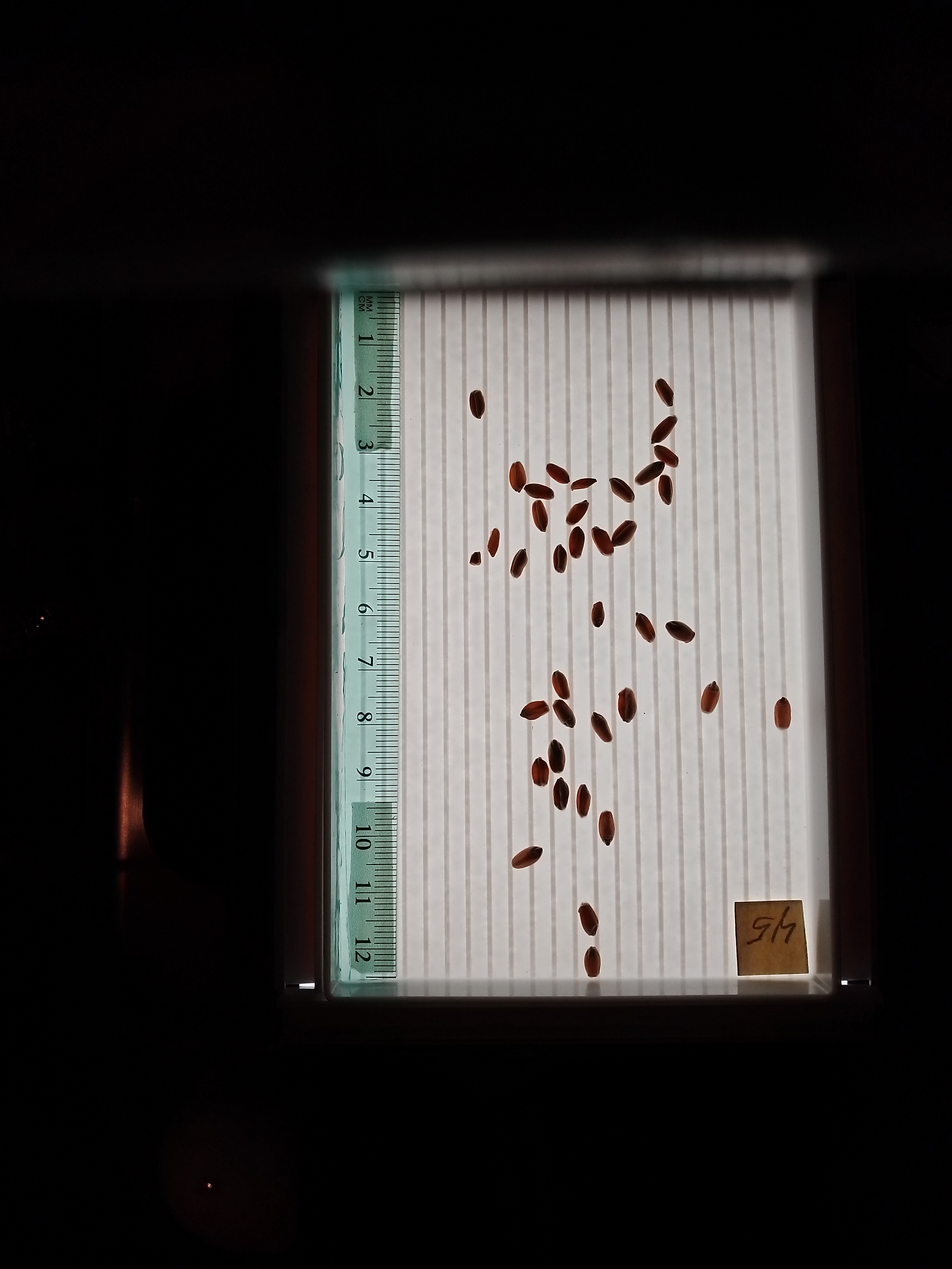seed mask: (651, 416, 677, 444), (618, 689, 637, 723), (512, 846, 541, 868), (610, 477, 634, 503), (612, 521, 636, 547), (636, 462, 663, 485), (666, 621, 694, 643), (579, 903, 598, 935), (592, 528, 614, 555), (553, 701, 575, 728), (774, 698, 792, 730), (701, 683, 720, 713), (592, 714, 612, 742), (566, 501, 588, 526), (598, 812, 615, 844), (636, 615, 655, 642), (521, 701, 548, 720), (549, 741, 565, 773), (568, 528, 585, 558), (532, 501, 549, 531), (656, 378, 674, 406), (553, 779, 569, 810), (509, 463, 526, 492), (532, 758, 549, 787), (526, 483, 553, 501), (655, 446, 678, 467), (576, 785, 591, 817), (585, 948, 601, 977), (511, 550, 528, 577), (552, 672, 569, 699), (547, 464, 569, 484), (658, 476, 673, 505), (469, 391, 485, 418), (553, 546, 567, 573), (592, 602, 605, 627), (487, 529, 499, 556), (572, 477, 595, 491)
